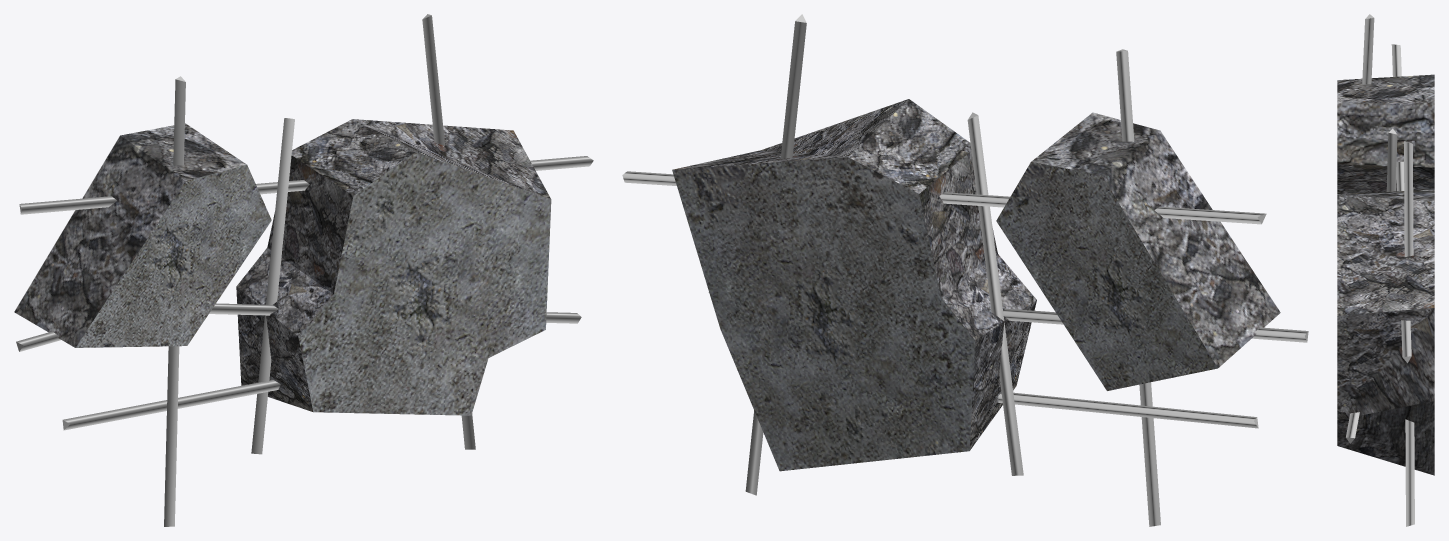
File: suishi4.FBX
The picture shows the model from 3 angles, left to right: view 1: azimuth 30°, elevation 25°; view 2: azimuth 150°, elevation 25°; view 3: azimuth 270°, elevation 25°; orthographic projection. The views are drawn at different scales.
Parts seen in each view (by area): view 1: qiangti, shitou, polySurface1277; view 2: qiangti, shitou, polySurface1277; view 3: shitou, polySurface1277.
Boxes of the visible parts, x1,y1,x2,y2 form: qiangti: (75, 152, 551, 415); shitou: (14, 119, 550, 411); polySurface1277: (16, 14, 593, 526); qiangti: (672, 157, 1217, 471); shitou: (673, 99, 1280, 450); polySurface1277: (622, 14, 1308, 526); shitou: (1337, 74, 1434, 475); polySurface1277: (1346, 14, 1414, 526).
Bounding box in the file's own units: 2.09 × 1.56 × 0.3589.
